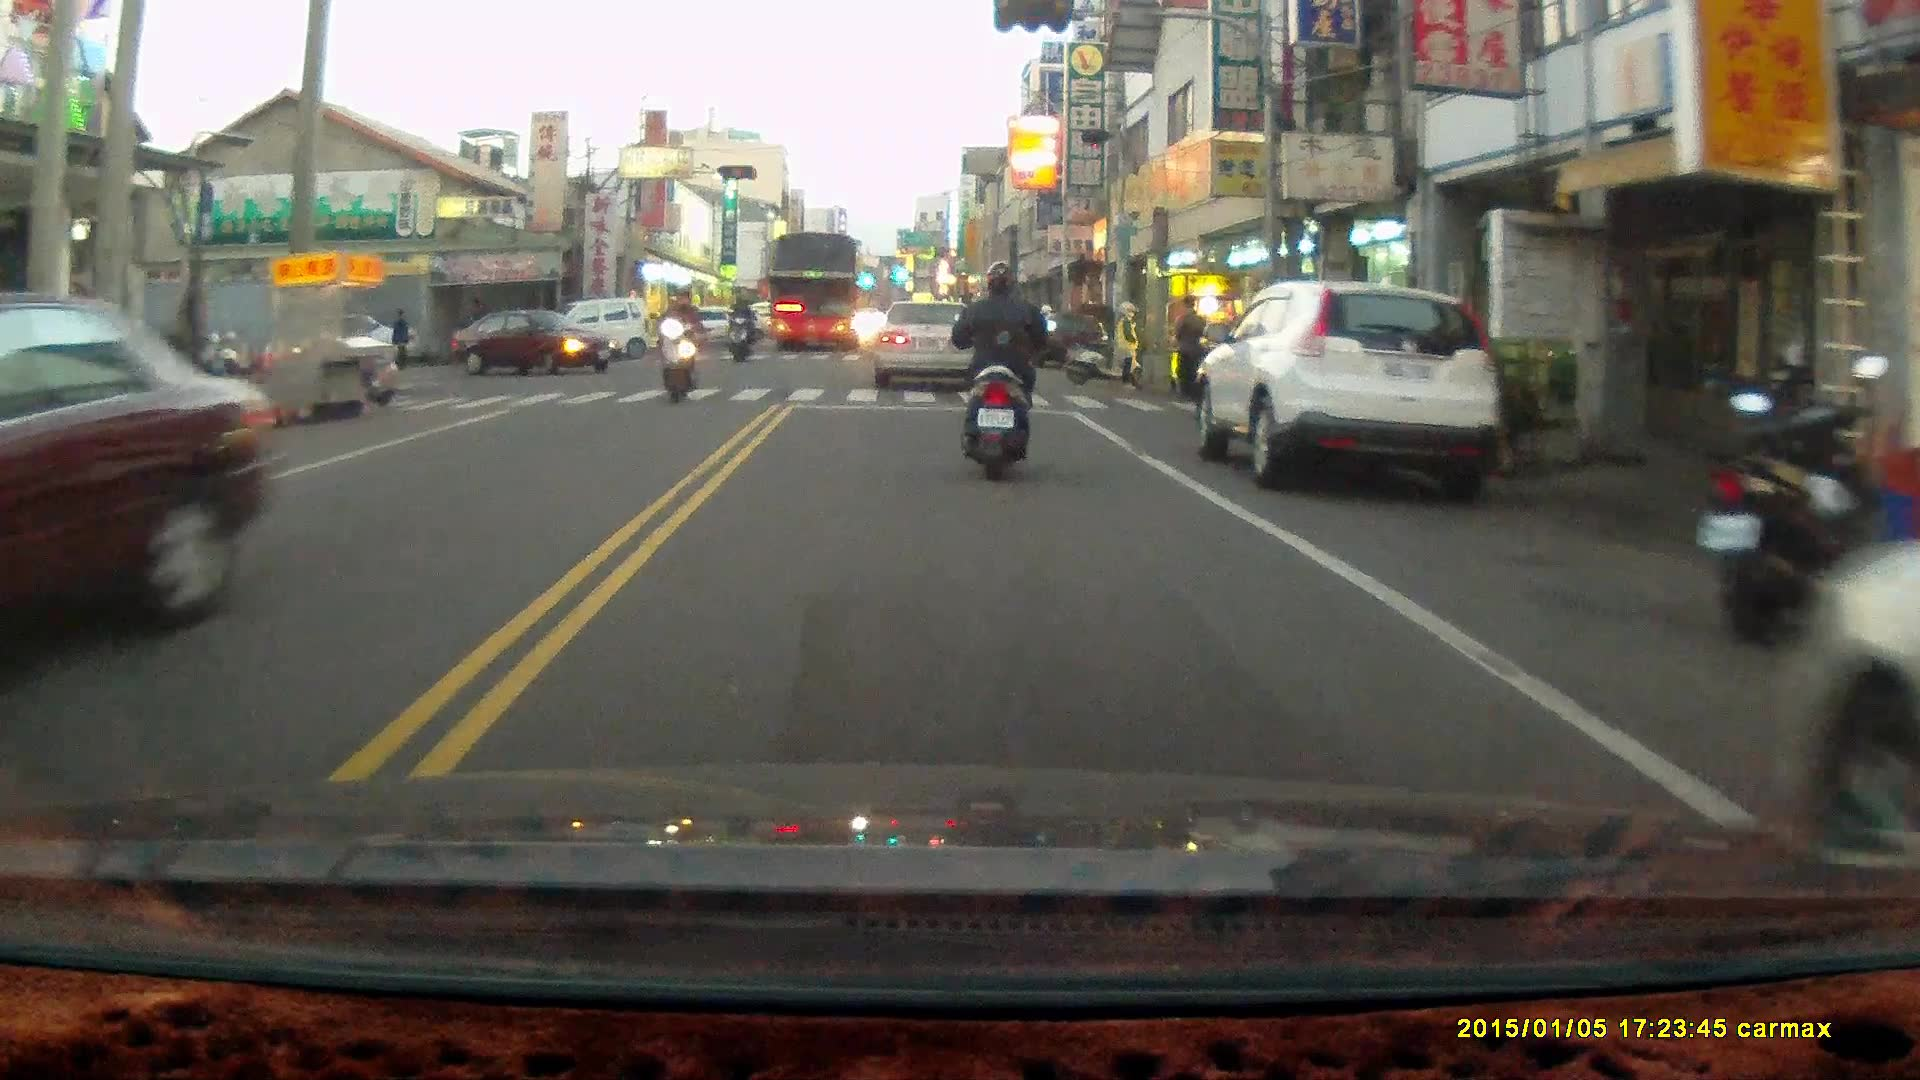pedestrian: (1174, 292, 1205, 399), (1114, 296, 1147, 387), (388, 303, 410, 368)
rider: (951, 257, 1048, 479), (652, 281, 702, 404), (727, 290, 751, 359)
vehicle: (1, 291, 272, 693), (1197, 279, 1499, 488), (759, 232, 867, 349), (461, 306, 615, 382), (873, 299, 983, 391)
